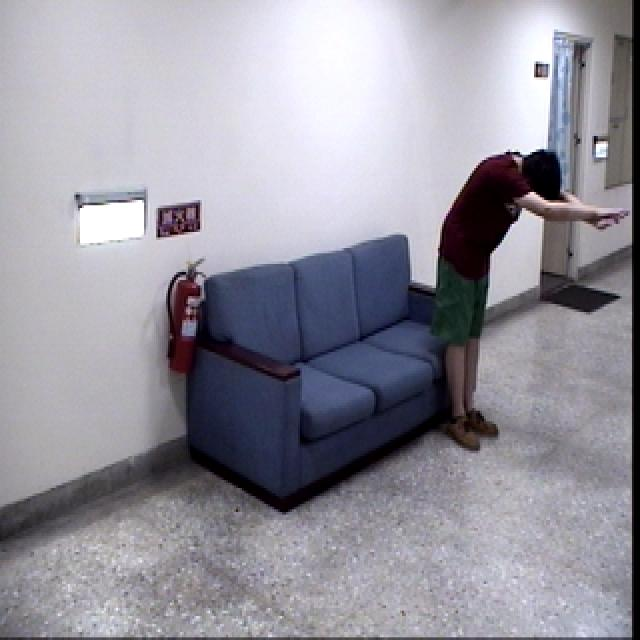bend: (432, 134, 626, 458)
